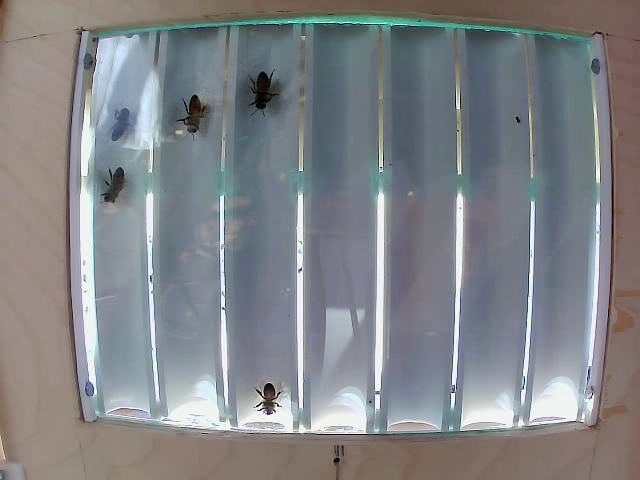bee: (238, 65, 279, 120), (174, 94, 215, 146), (252, 379, 296, 419), (106, 171, 140, 209)
